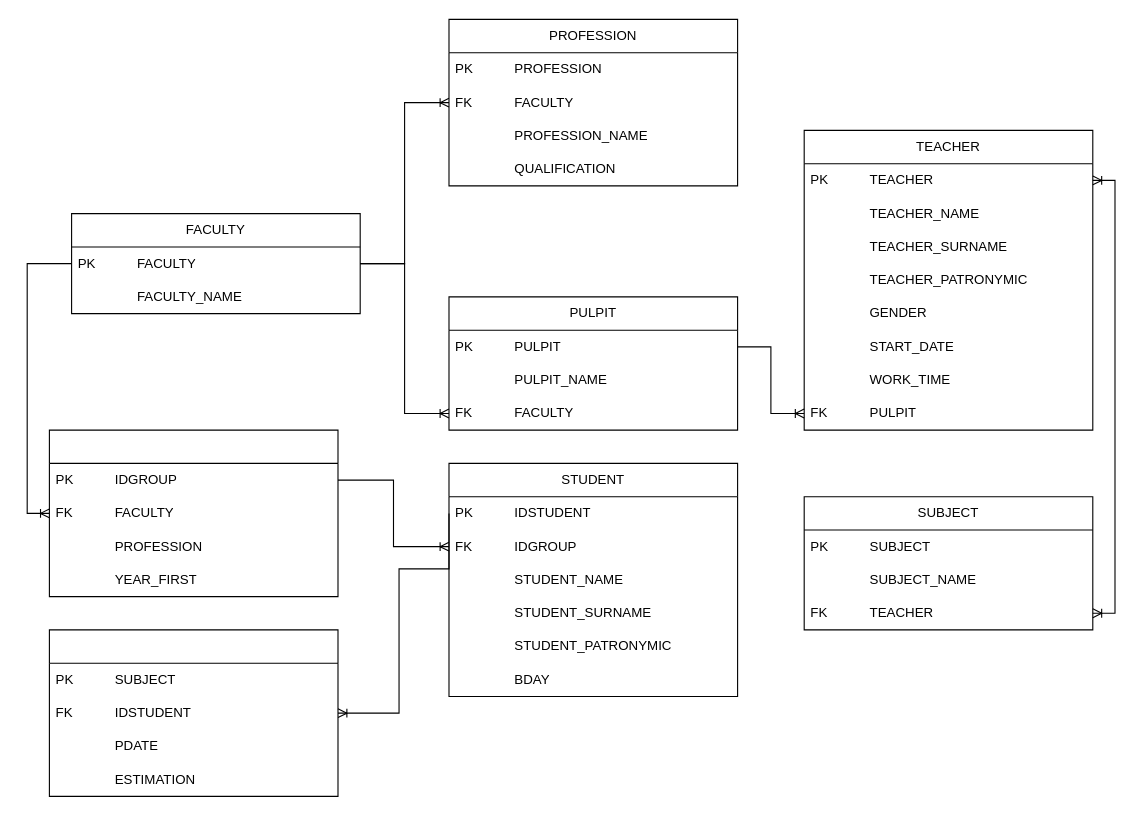
This 1144x816 diagram has some shape labels left out. Each missing label, with the box of its shape:
GROUPS: (48, 429, 338, 597)
PROGRESS: (48, 629, 338, 796)
